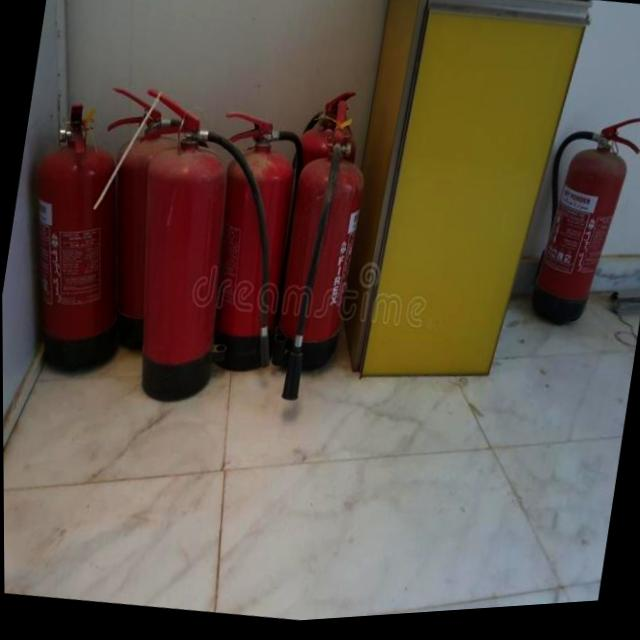FireExtinguisher: (96, 77, 312, 426), (69, 76, 244, 371), (1, 92, 158, 386), (257, 96, 385, 416), (182, 104, 318, 388), (520, 108, 640, 349), (261, 85, 369, 337)
